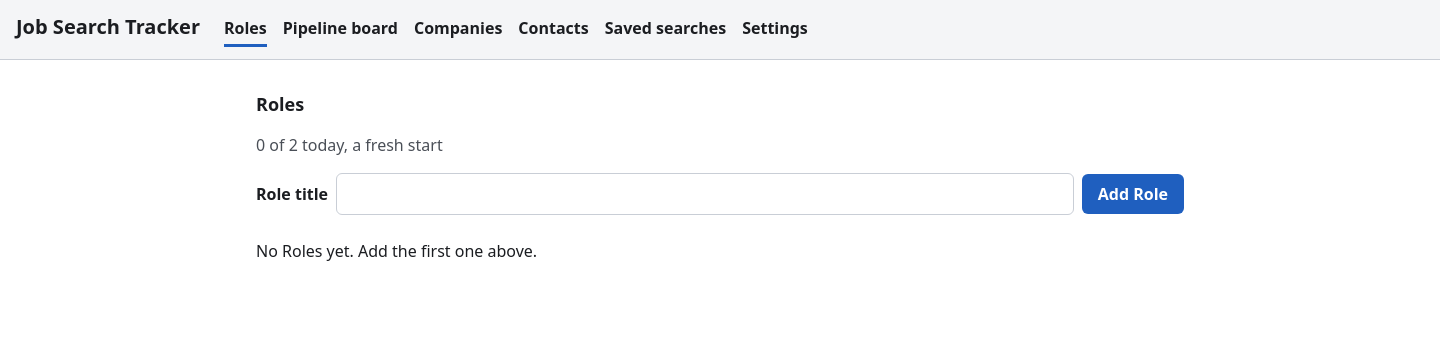
Saved searches page › Given a Saved search never checked, when I mark it checked, then it shows its Last checked date, from the clock
Click the link "Saved searches" at [665, 30], box [605, 12, 726, 47]
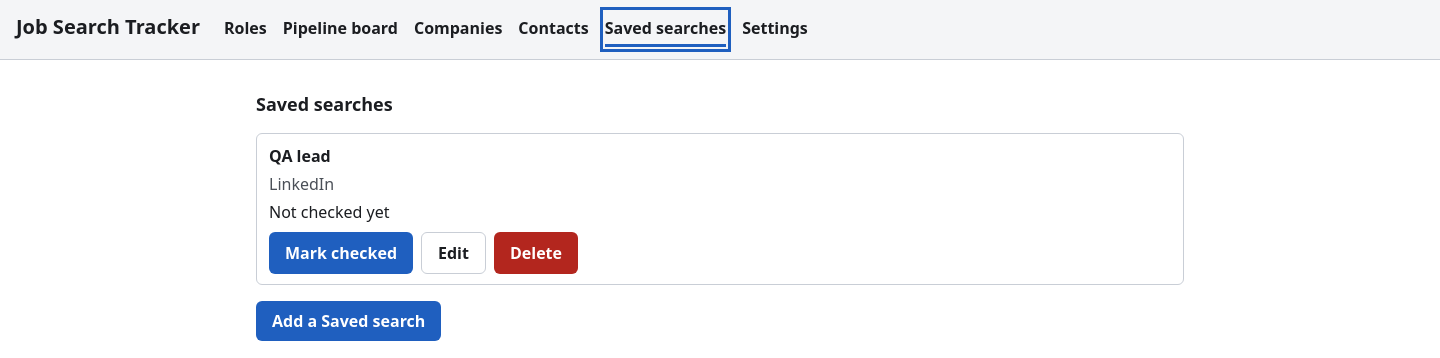
Result: the heading "Saved searches" is shown at [256, 92, 393, 116]
Result: the list named "Saved searches" shows "Not checked yet" at [269, 201, 390, 223]
Click the button with aria-label "Mark QA lead checked" at [341, 253], box [269, 232, 413, 274]
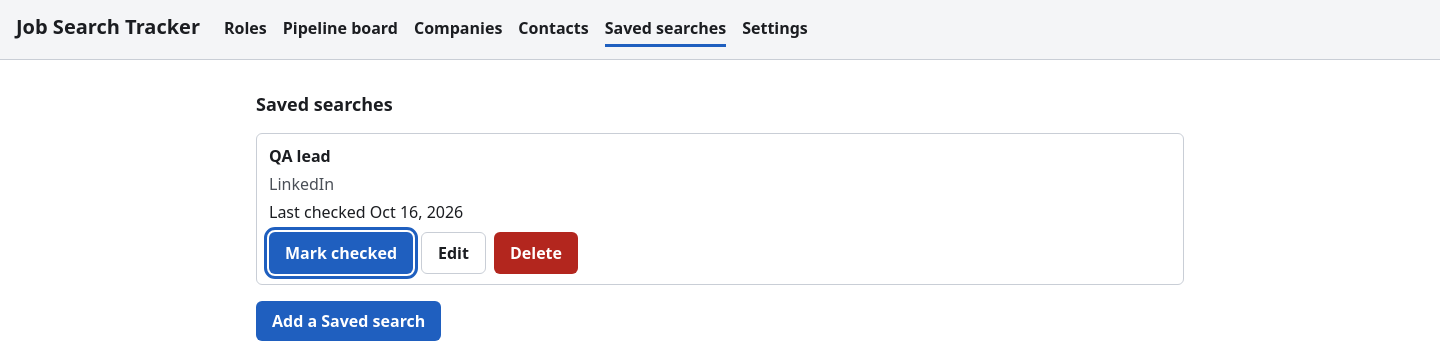
Result: the text "Last checked Oct 16, 2026" is shown at [269, 201, 463, 223]
Result: the list named "Saved searches" no longer shows "Not checked yet" at [256, 133, 1184, 285]
